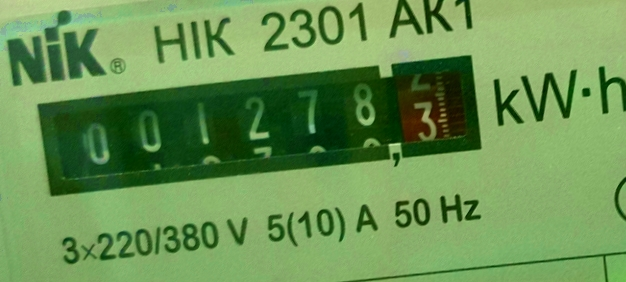0: (83, 117, 113, 166), (136, 106, 162, 154)
1: (194, 98, 213, 147)
2: (242, 93, 271, 140), (406, 71, 433, 93)
3: (411, 96, 439, 140)
7: (296, 86, 321, 135)
8: (350, 80, 377, 128)
screen: (17, 43, 499, 205)
